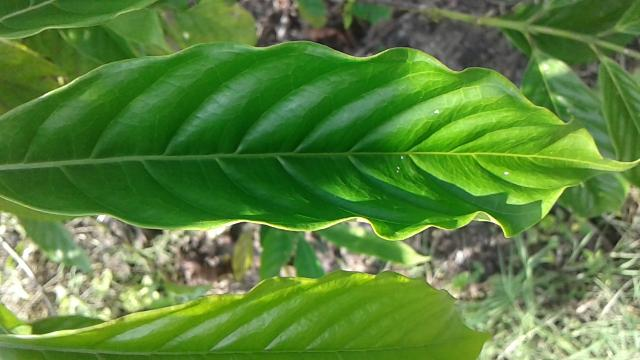healthy: (0, 37, 640, 243)
